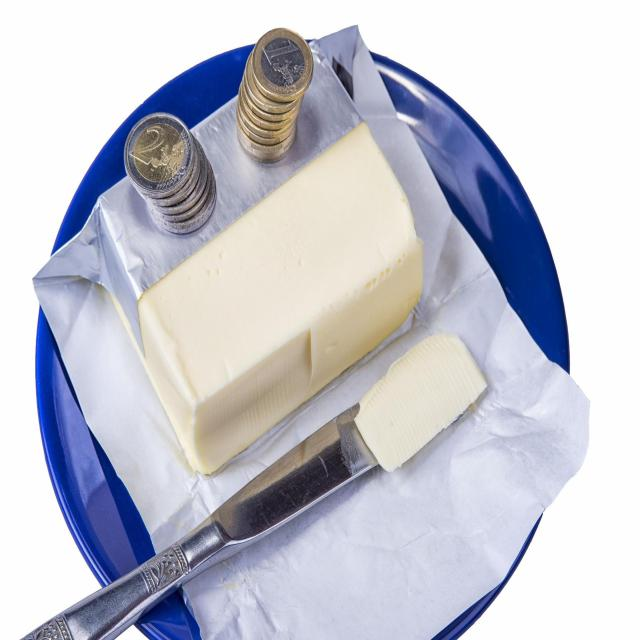butter: (137, 118, 424, 476), (350, 328, 489, 474)
